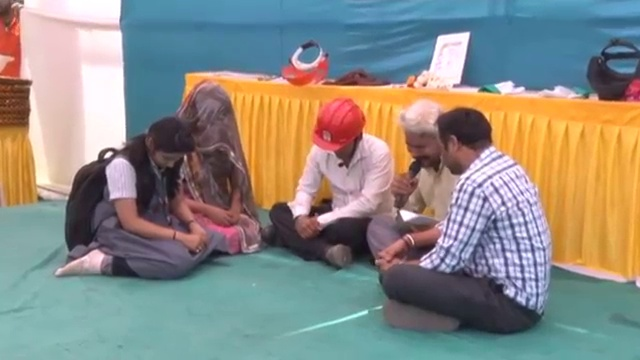helmet: (310, 93, 369, 152), (0, 52, 16, 76)
helmet_off: (437, 104, 495, 177), (178, 81, 238, 151), (142, 110, 195, 177), (400, 99, 445, 167), (0, 0, 18, 21)
helmet_on: (310, 96, 371, 169)
person: (379, 97, 554, 332), (59, 117, 212, 281), (261, 92, 396, 265), (163, 81, 264, 250), (368, 100, 461, 268), (0, 0, 23, 80)
